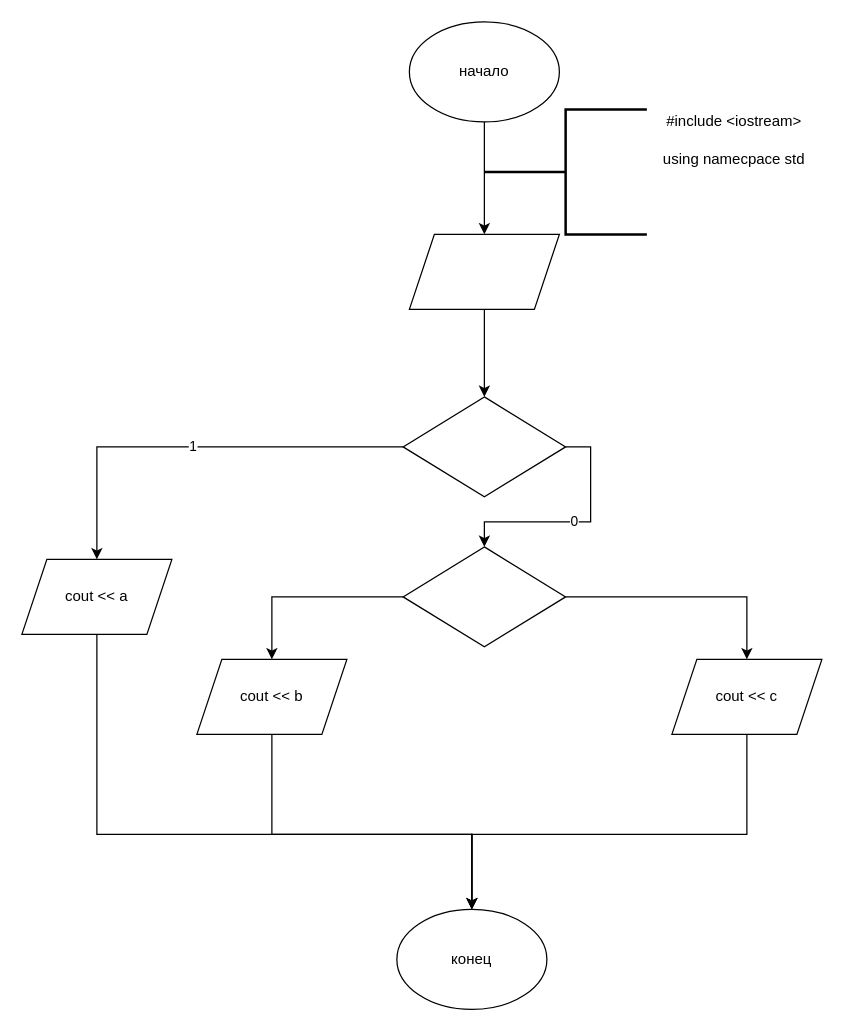
This 844x1031 diagram has some shape labels left out. Each missing label, with the box of its shape:
cin >> a >> b >> c: (408, 233, 559, 309)
if (a>=b) and (a>=c): (402, 396, 566, 497)
if (b>=a) and (b>=c): (402, 546, 566, 647)
